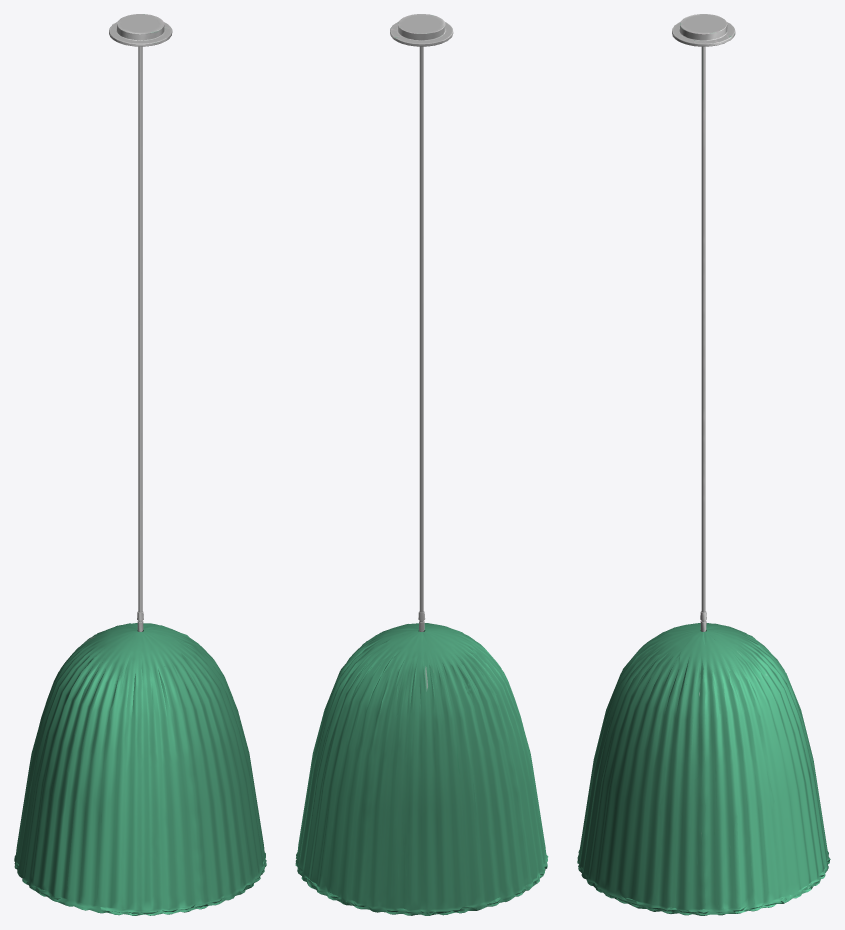
The model's file is raw_model.obj.
The picture shows the model from 3 angles, left to right: view 1: azimuth 30°, elevation 25°; view 2: azimuth 150°, elevation 25°; view 3: azimuth 270°, elevation 25°; orthographic projection.
Visible parts, largest first — view 1: solid_002, solid_001; view 2: solid_002, solid_001; view 3: solid_002, solid_001.
Part boxes in pixels (left/top/right/bottom): solid_002: left=14, top=623, right=266, bottom=915; solid_001: left=109, top=14, right=172, bottom=631; solid_002: left=295, top=623, right=548, bottom=915; solid_001: left=390, top=14, right=453, bottom=631; solid_002: left=577, top=623, right=830, bottom=915; solid_001: left=672, top=14, right=735, bottom=631.
Bounding box in the file's own units: 0.391 × 1.43 × 0.3908.
1 material, 1 textured.
